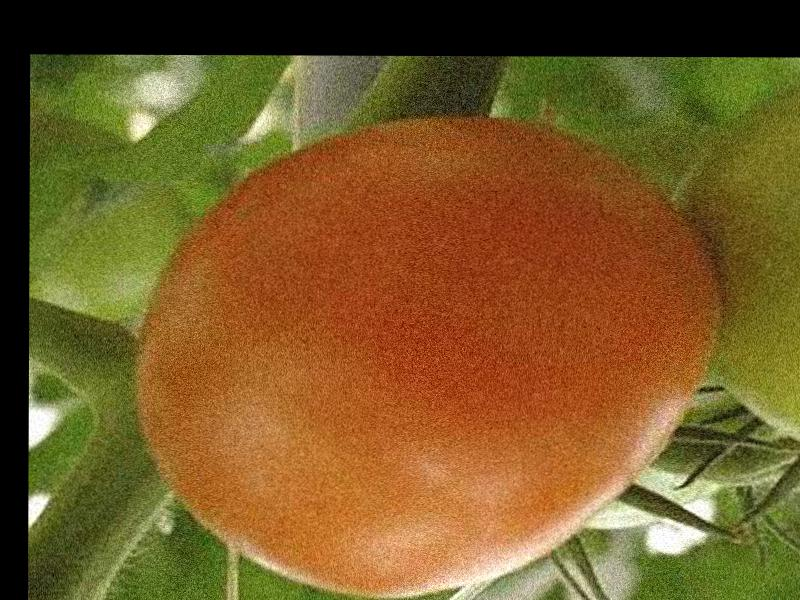Tomato: (134, 115, 718, 600)
